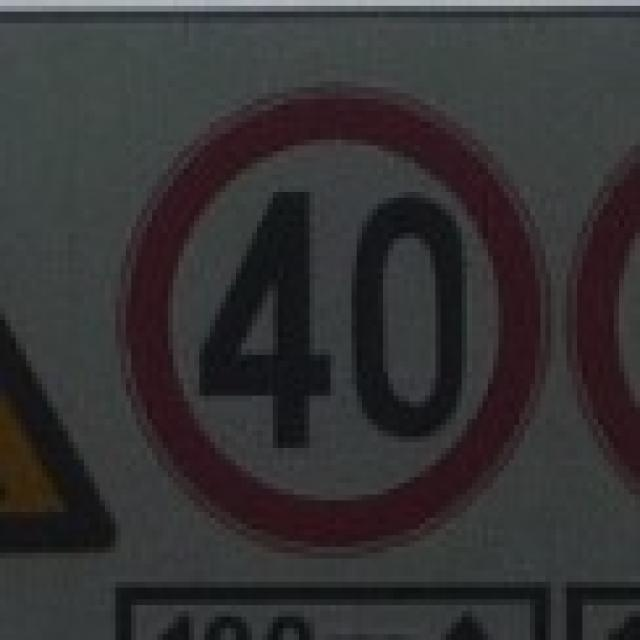Speed Limit -40-: (194, 190, 476, 452)
